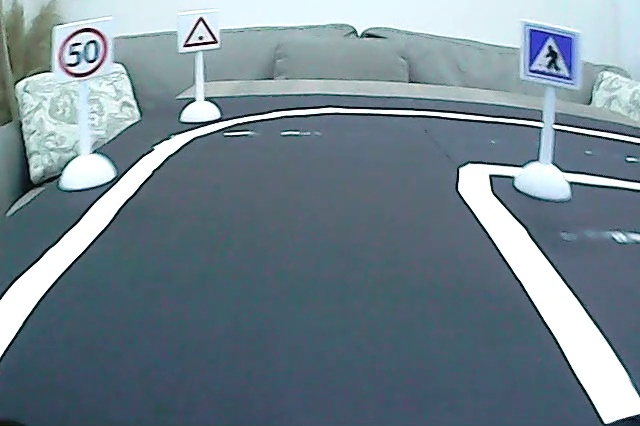green light: (180, 14, 221, 49)
pedestrian crossing: (524, 27, 578, 83)
speed limit 50: (57, 24, 111, 79)
